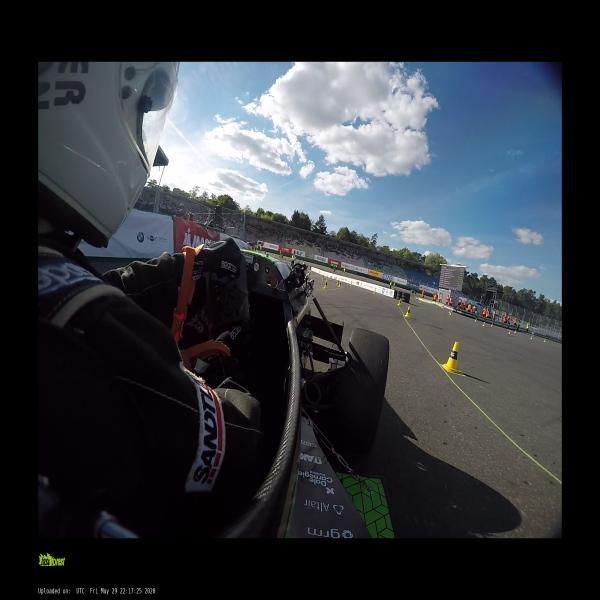yellow_cone: (441, 342, 460, 373), (404, 306, 410, 318), (323, 279, 328, 290), (398, 298, 401, 306), (543, 338, 546, 343), (508, 330, 511, 335), (373, 289, 376, 294), (482, 322, 485, 327), (530, 335, 533, 340), (349, 281, 352, 286), (490, 322, 493, 327), (474, 318, 477, 322), (339, 282, 341, 287), (322, 275, 324, 280), (514, 330, 516, 334), (337, 280, 339, 284), (450, 312, 451, 315)
